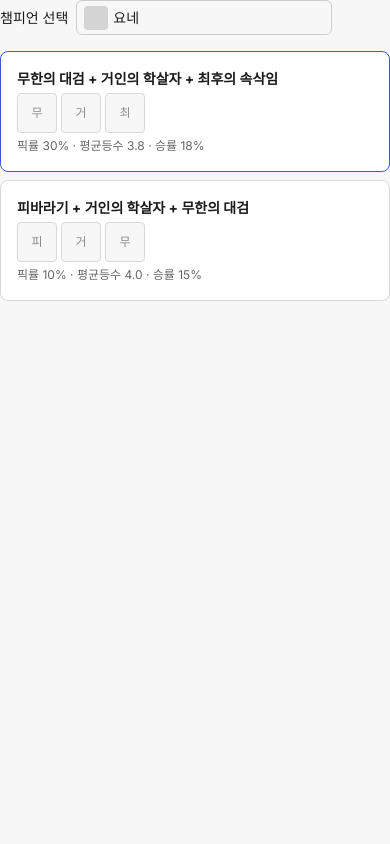
ItemBuildsView — 챔피언 필터·아이템 빌드 › URL의 champion_id로 초기 선택되고, 리스트 행을 탭하면 모바일 바텀시트가 열리고 닫힌다
Click the text "무한의 대검 + 거인의 학살자 + 최후의 속삭임": (148, 78) [17,70,278,87]
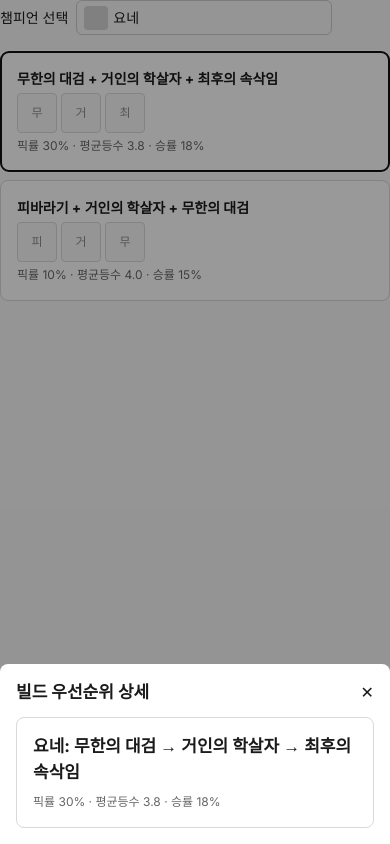
Expected: the dialog "빌드 우선순위 상세" is shown
Click the button named "닫기": (367, 692) [361,680,374,704]
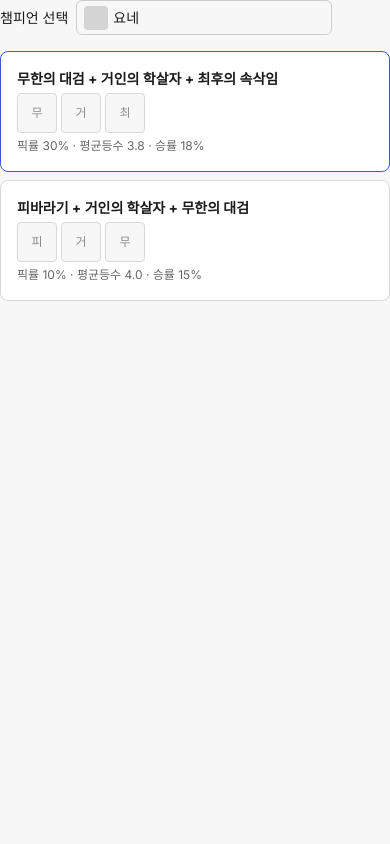
Expected: the dialog is gone
